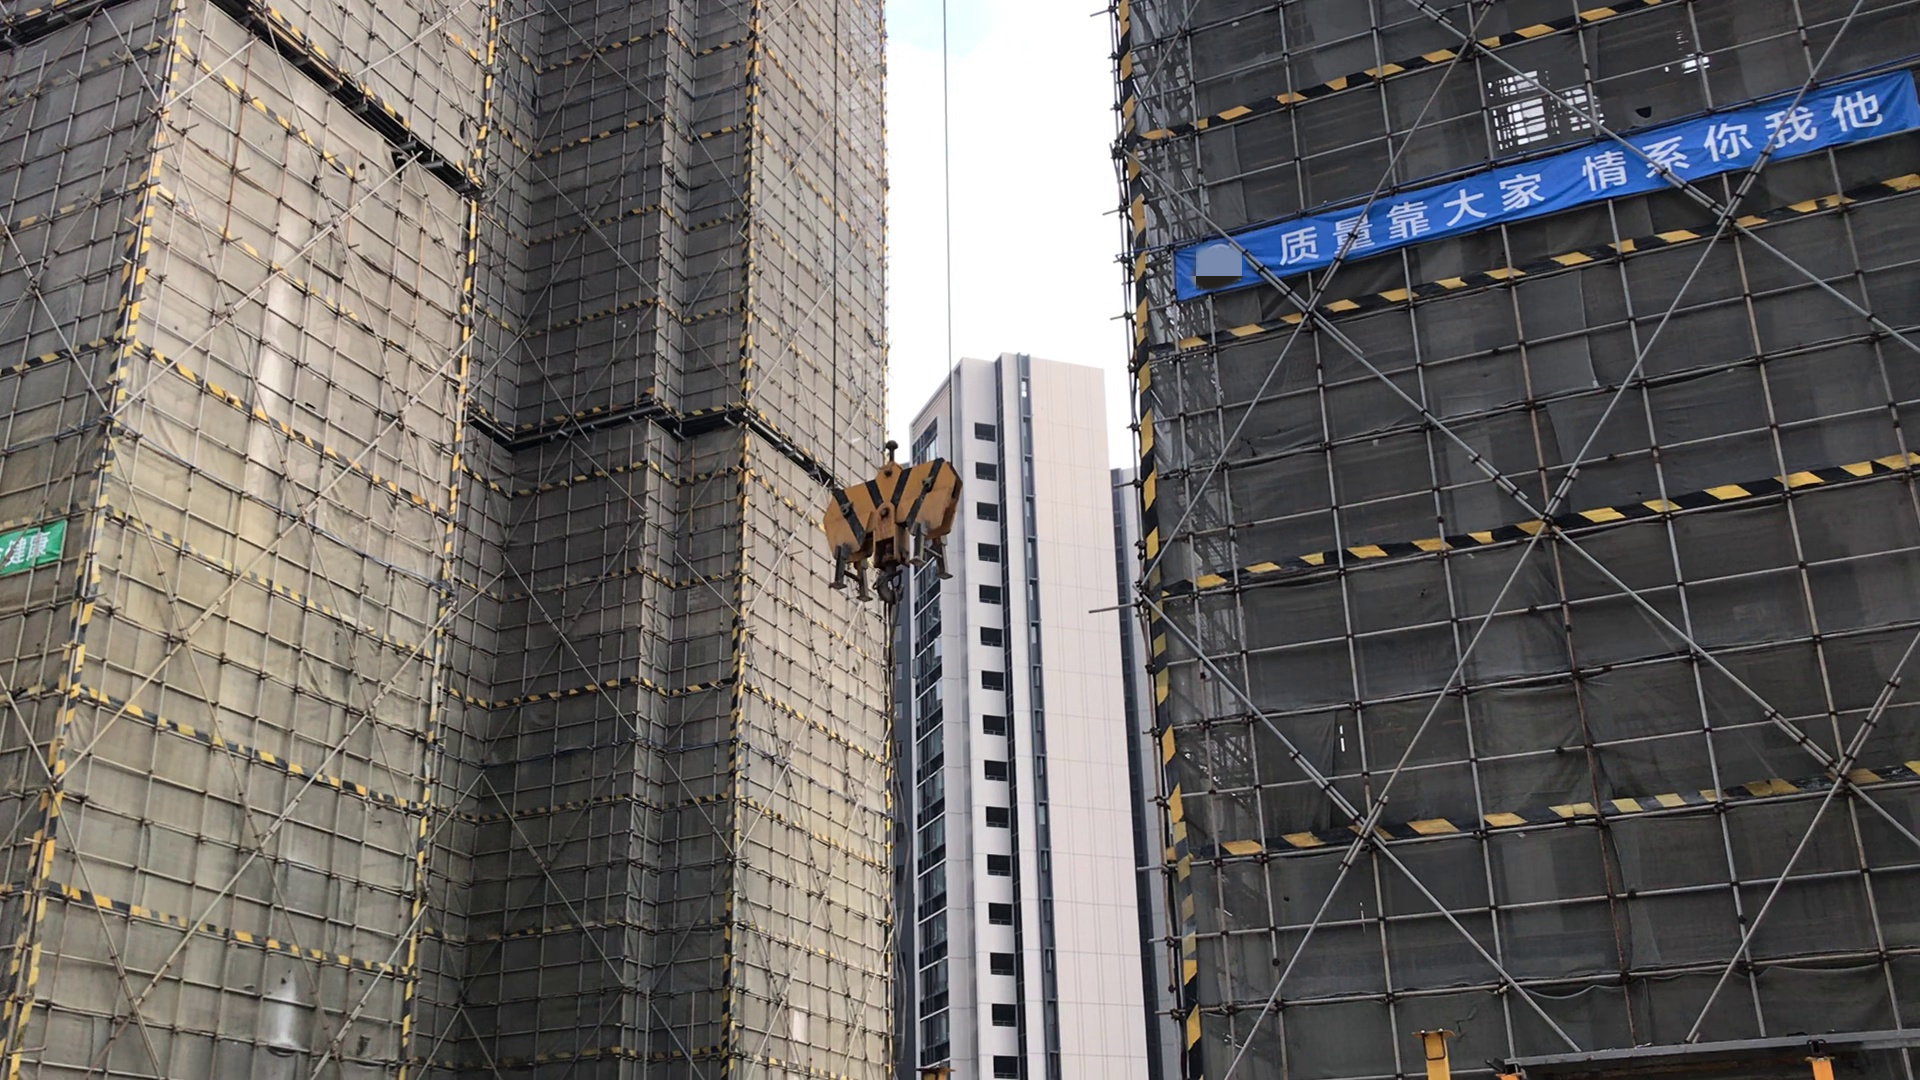hook: (815, 423, 957, 591)
slogan: (1164, 57, 1920, 316), (1, 504, 69, 574)
